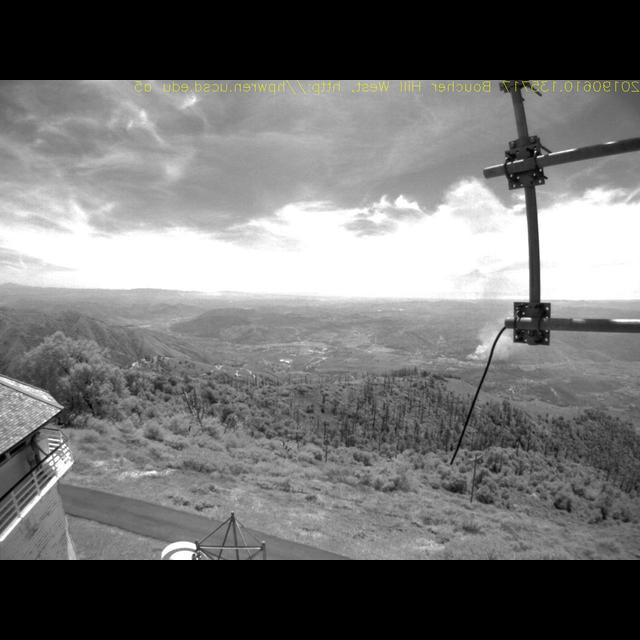Smoke: (463, 270, 515, 366)
